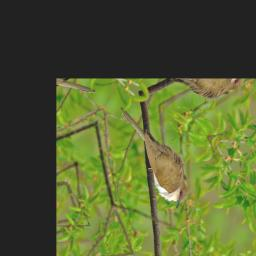Cuckoo: (95, 105, 205, 212)
